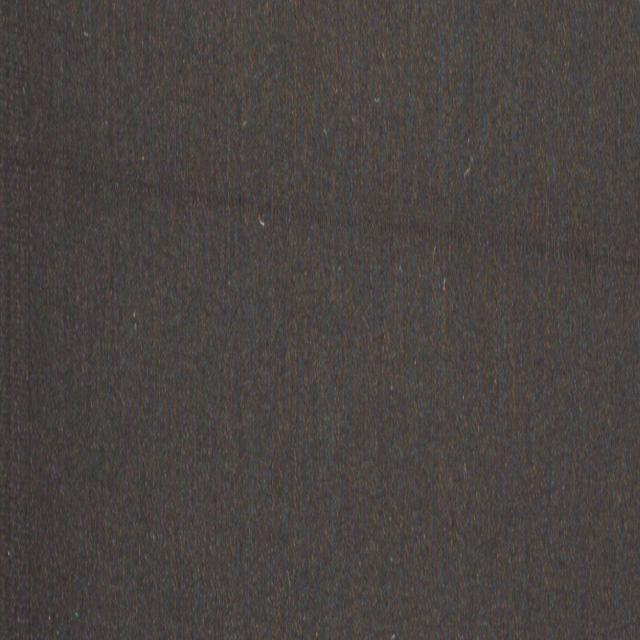Line: (0, 152, 640, 280)
